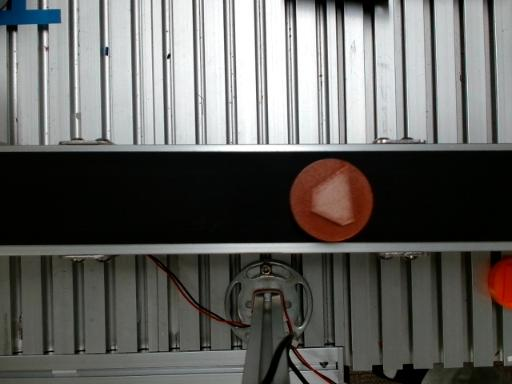Brown_Waper: (290, 159, 373, 241)
Not_Square: (312, 163, 355, 226)
